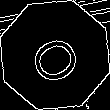O_NE: (22, 24, 88, 86)
